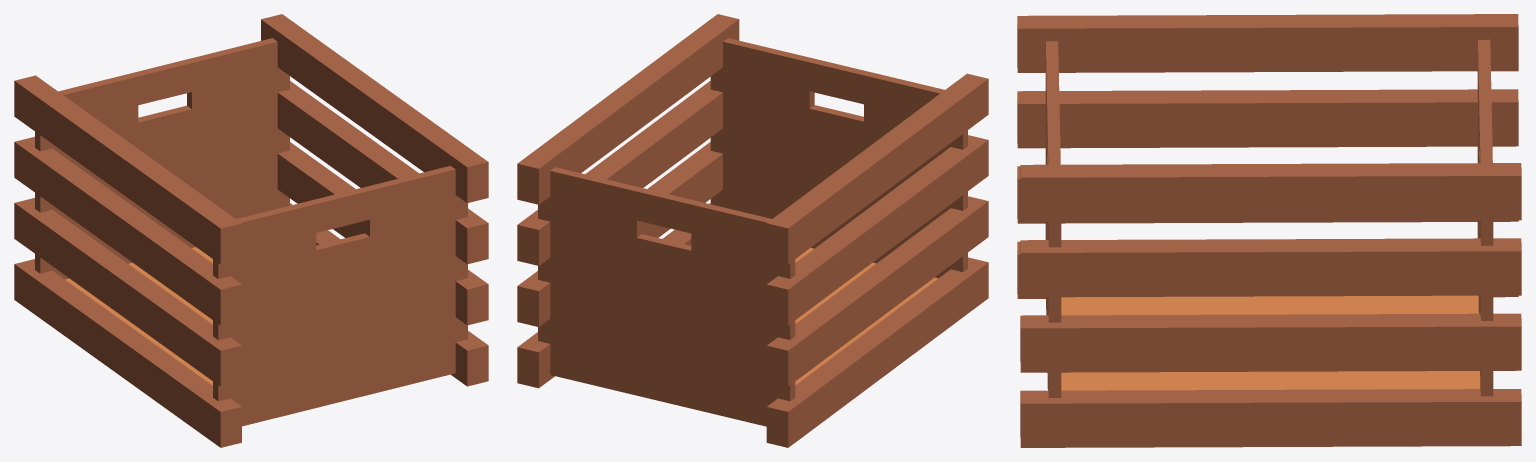
Rendered from caixa-madeira-pequena.fbx.
3 renders of one model, left to right at view 1: azimuth 30°, elevation 25°; view 2: azimuth 150°, elevation 25°; view 3: azimuth 270°, elevation 25°, orthographic. The views are drawn at different scales.
Visible parts, largest first — view 1: CaixaMadeira2_LOD0; view 2: CaixaMadeira2_LOD0; view 3: CaixaMadeira2_LOD0.
Boxes of the visible parts, x1,y1,x2,y2 form: CaixaMadeira2_LOD0: [14, 14, 488, 447]; CaixaMadeira2_LOD0: [517, 14, 988, 447]; CaixaMadeira2_LOD0: [1017, 14, 1521, 447].
Size of what is drawn, in the model's own units: 93.85 by 72.22 by 122.
